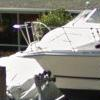Boat: (18, 12, 100, 89)
